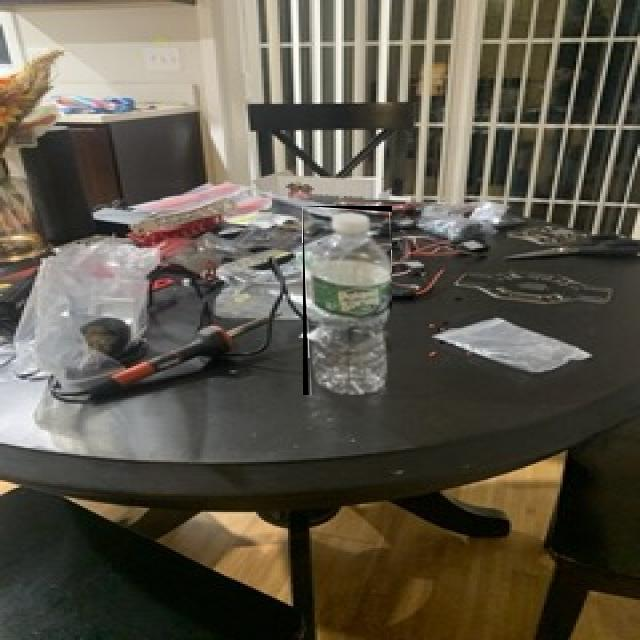water_bottle: (303, 206, 392, 395)
